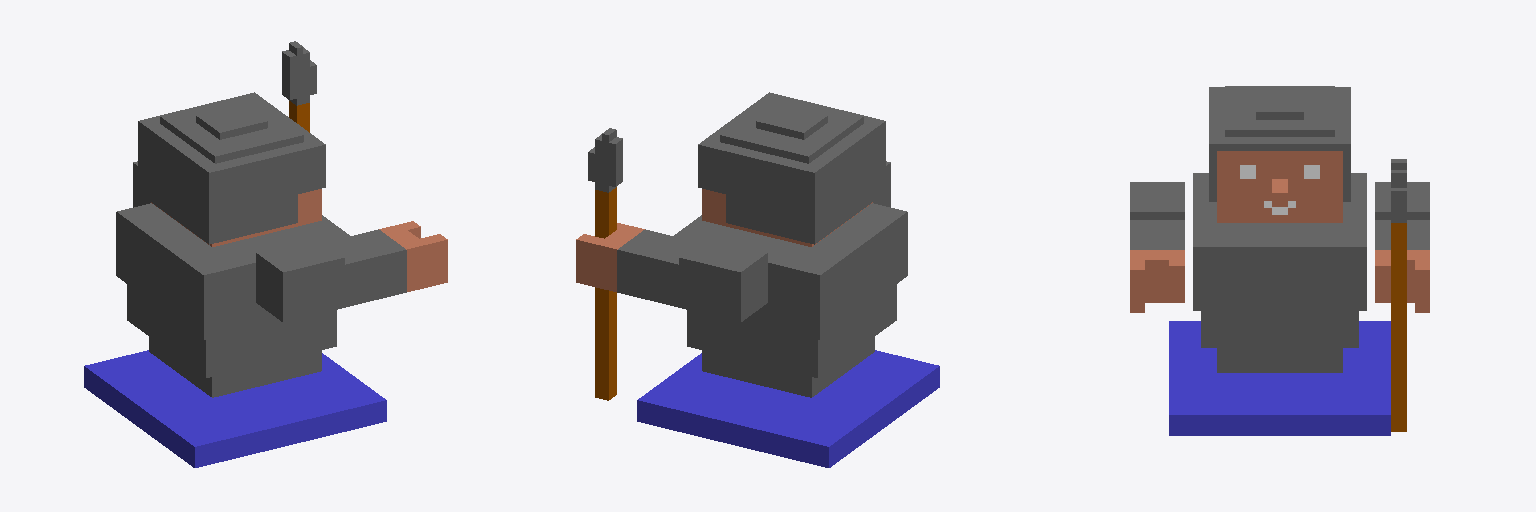
The picture shows the model from 3 angles: view 1: azimuth 30°, elevation 25°; view 2: azimuth 150°, elevation 25°; view 3: azimuth 270°, elevation 25°; orthographic projection.
Visible parts, largest first — view 1: object 1; view 2: object 1; view 3: object 1.
Part boxes in pixels (x1,y1,x2,y2): object 1: (84, 41, 447, 467); object 1: (576, 92, 939, 467); object 1: (1130, 86, 1429, 435).
Size of the model in its own units: 3.4 by 4 by 3.8.
1 materials, 1 textured.